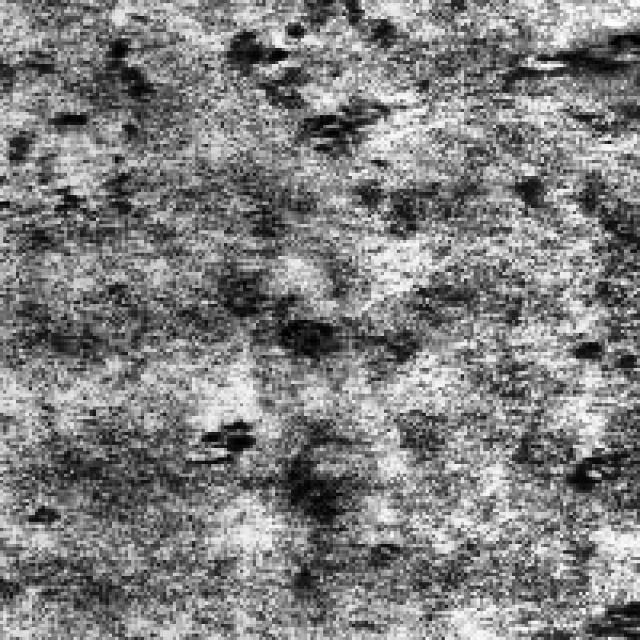Crazing: (247, 0, 422, 147), (0, 99, 154, 240)
